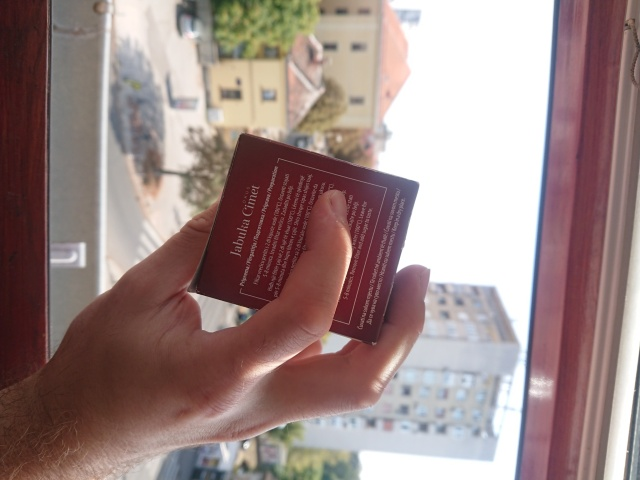Franck Apple Cinnamon Tea 60g: (185, 130, 422, 349)
